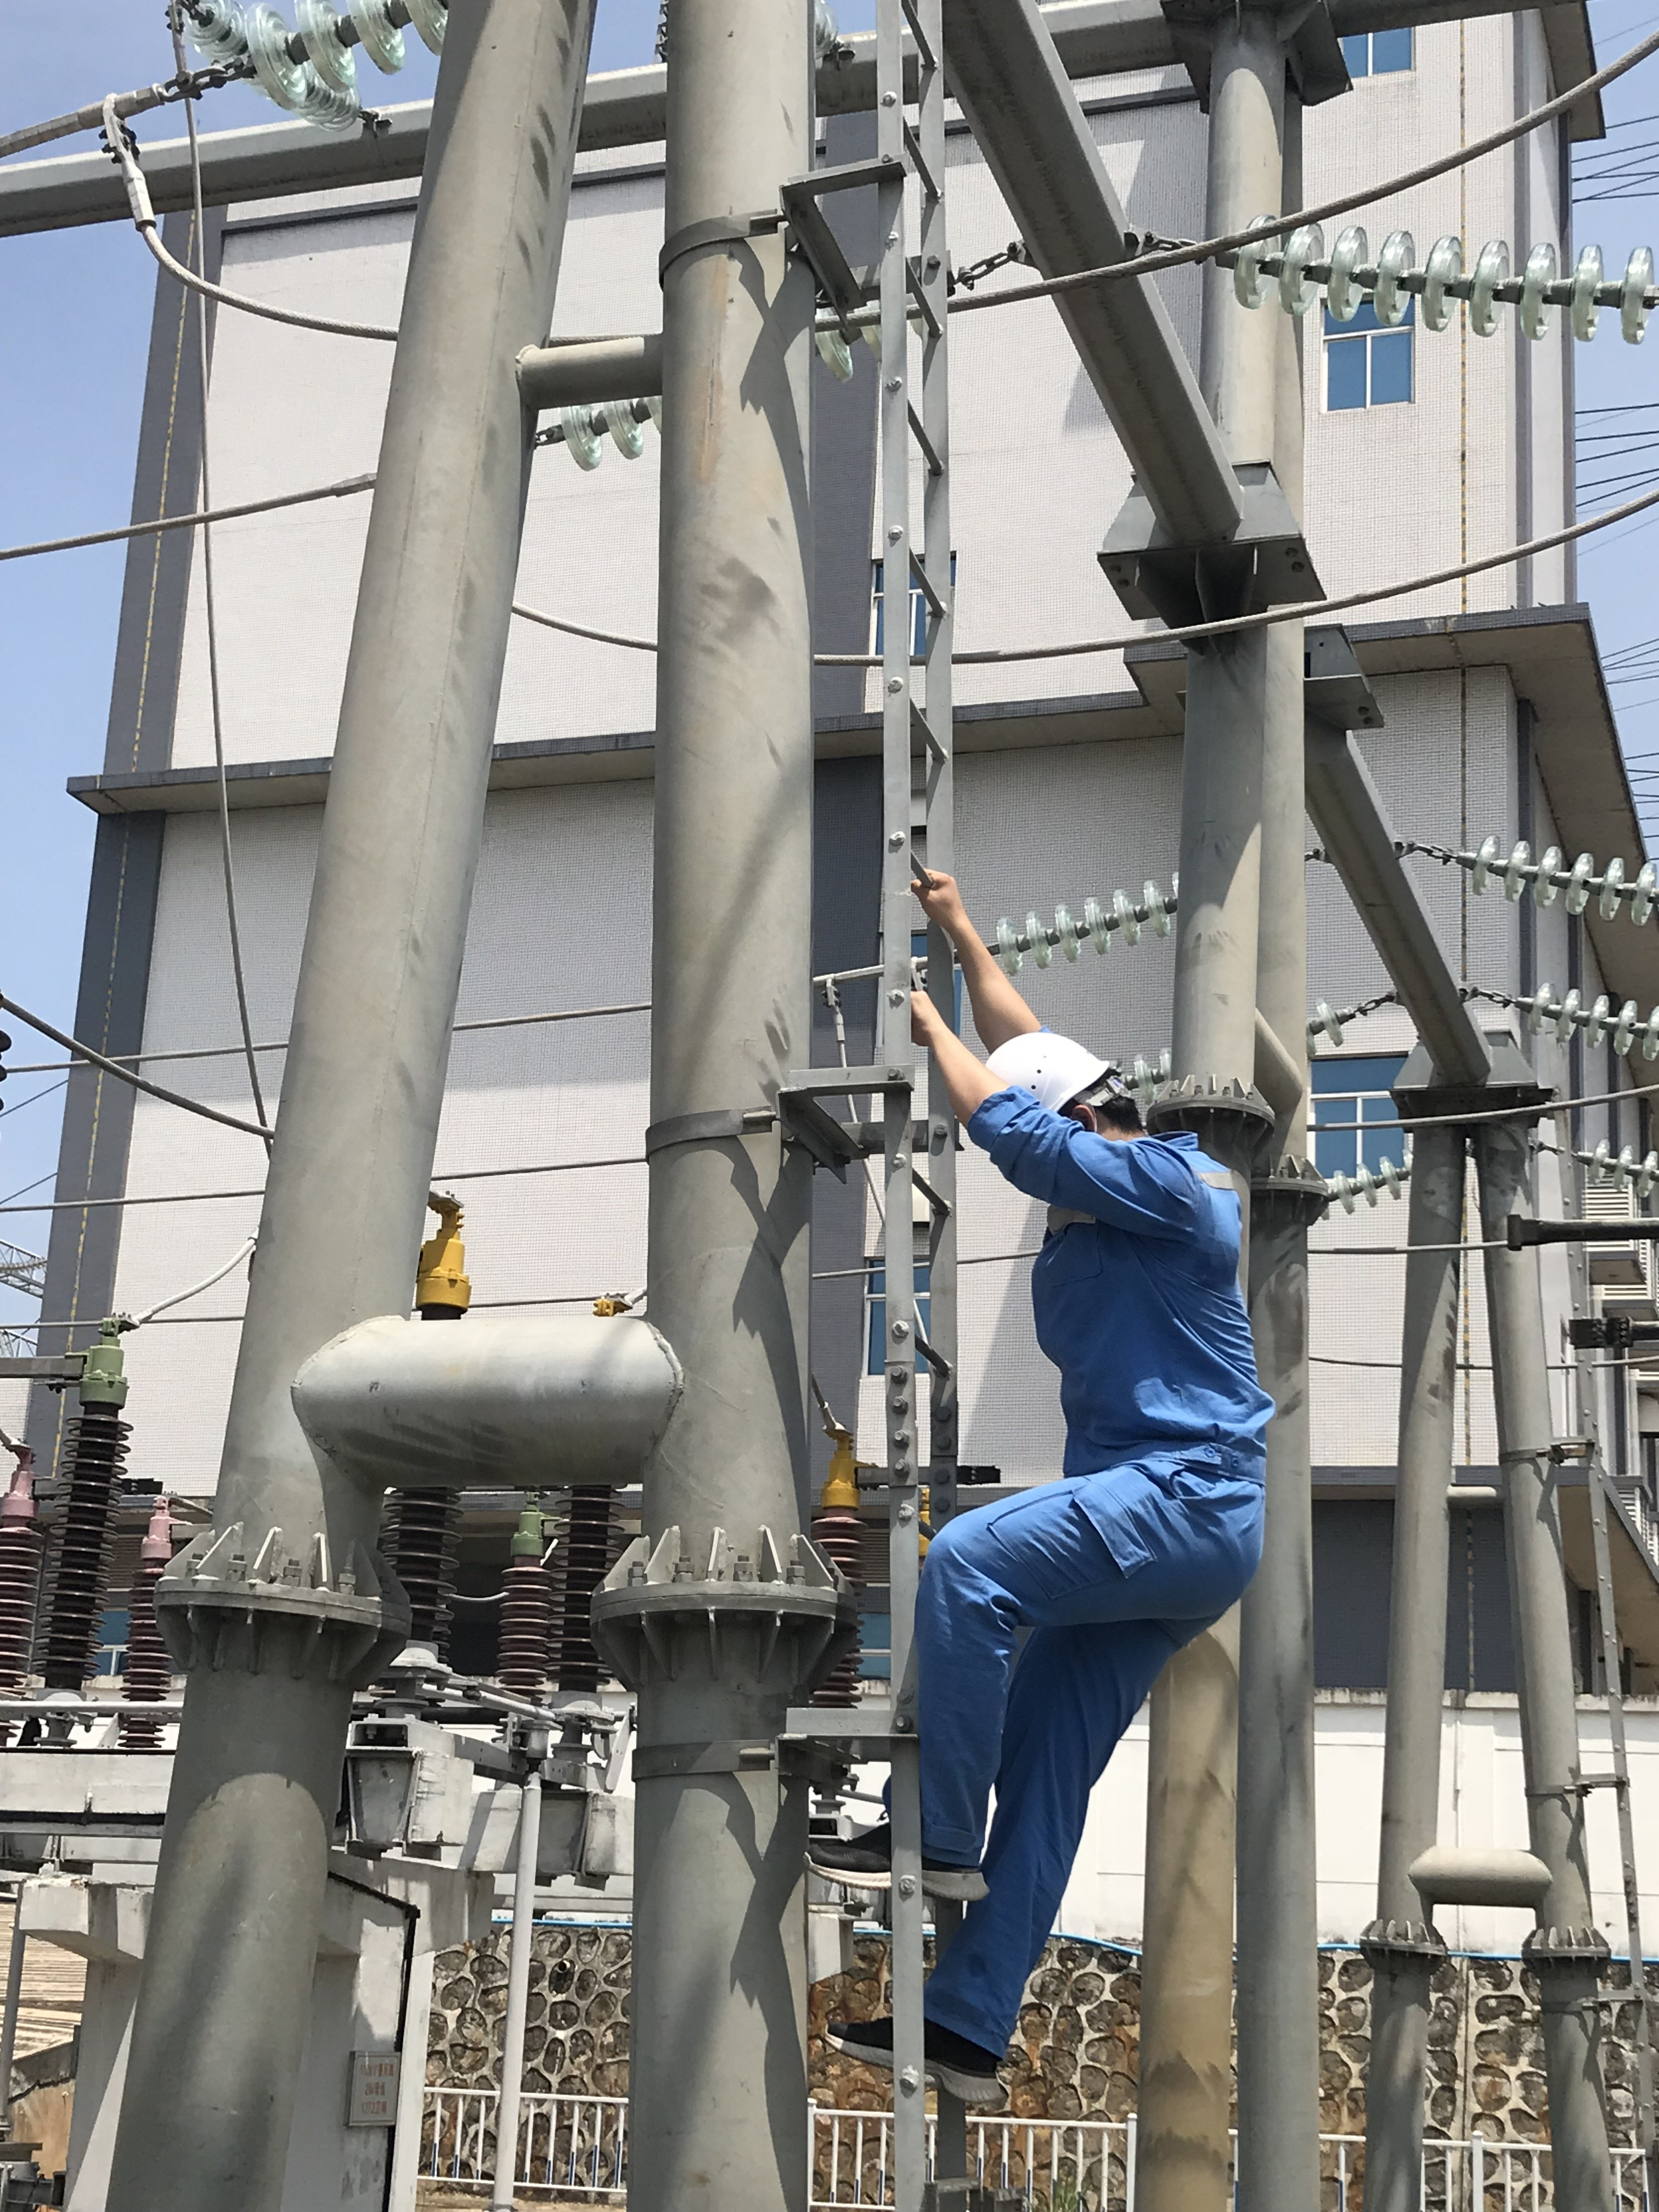downsuit: (896, 1496, 1286, 2047)
upsuit: (971, 1108, 1269, 1446)
wrongtop: (932, 1021, 1053, 1209), (941, 921, 1079, 1052)
